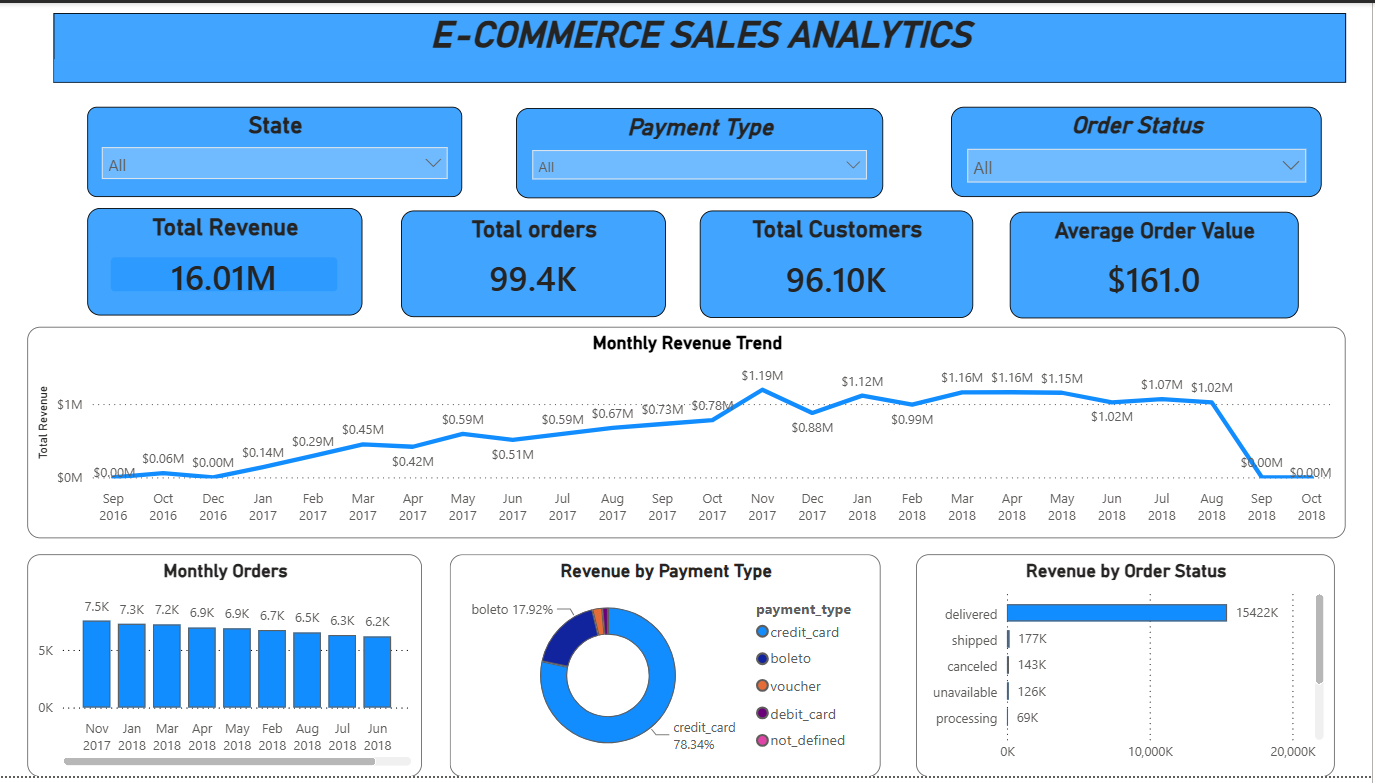

The page's visual inventory and layout, read from the dashboard file:
{"tool":"powerbi","page":{"name":"Sales Analysis","canvas":[1280,720],"ordinal":0},"visuals":[{"type":"cardVisual","title":"Total Revenue","fields":{"Data":["Sum(order_payments.payment_value)"]},"box":[85,191.2,255.8,100],"z":0},{"type":"cardVisual","title":"Total orders","fields":{"Data":["Count(orders.order_id)"]},"box":[376.2,192.5,246.5,98.8],"z":1000},{"type":"cardVisual","title":"Total Customers","fields":{"Data":["Count(customers.customer_unique_id)"]},"box":[655,192.5,254.7,100],"z":2000},{"type":"cardVisual","title":"Average Order Value","fields":{"Data":["order_payments.Average Order Value"]},"box":[942.5,193.8,268.6,98.8],"z":3000},{"type":"lineChart","title":"Monthly Revenue Trend","fields":{"Category":["orders.Month Year"],"Y":["order_payments.Total Revenue"]},"box":[29.1,301.2,1226.7,196.5],"z":4000},{"type":"clusteredColumnChart","title":"Monthly Orders","fields":{"Category":["orders.Month Year"],"Y":["orders.Total Orders"]},"box":[29.1,512.8,367.4,207],"z":5000},{"type":"donutChart","title":"Revenue by Payment Type","fields":{"Category":["order_payments.payment_type"],"Y":["order_payments.Total Revenue"]},"box":[422.1,512.8,401.2,207],"z":6000},{"type":"clusteredBarChart","title":"Revenue by Order Status","fields":{"Category":["orders.order_status"],"Y":["order_payments.Total Revenue"]},"box":[855.8,512.8,389.5,207],"z":7000},{"type":"shape","title":"  E-COMMERCE SALES ANALYTICS  ","box":[53.5,9.3,1202.3,65.1],"z":7001},{"type":"slicer","title":"State","fields":{"Values":["customers.customer_state"]},"box":[85,96.2,348.8,83.8],"z":7002},{"type":"slicer","title":"Order Status","fields":{"Values":["orders.order_status"]},"box":[888.8,96.2,345,83.8],"z":7003},{"type":"slicer","title":"Payment Type","fields":{"Values":["order_payments.payment_type"]},"box":[483.8,97.5,341.2,83.8],"z":7004}]}

Visuals, with their boxes in screenshot pixels (x1, y1, x2, y2), scaled from the page's 1280x720 canvas onto the 1375x783 screenshot:
"Total Revenue" cardVisual: 91,208,366,317
"Total orders" cardVisual: 404,209,669,317
"Total Customers" cardVisual: 704,209,977,318
"Average Order Value" cardVisual: 1012,211,1301,318
"Monthly Revenue Trend" lineChart: 31,328,1349,541
"Monthly Orders" clusteredColumnChart: 31,558,426,782
"Revenue by Payment Type" donutChart: 453,558,884,782
"Revenue by Order Status" clusteredBarChart: 919,558,1338,782
"  E-COMMERCE SALES ANALYTICS  " shape: 57,10,1349,81
"State" slicer: 91,105,466,196
"Order Status" slicer: 955,105,1325,196
"Payment Type" slicer: 520,106,886,197
